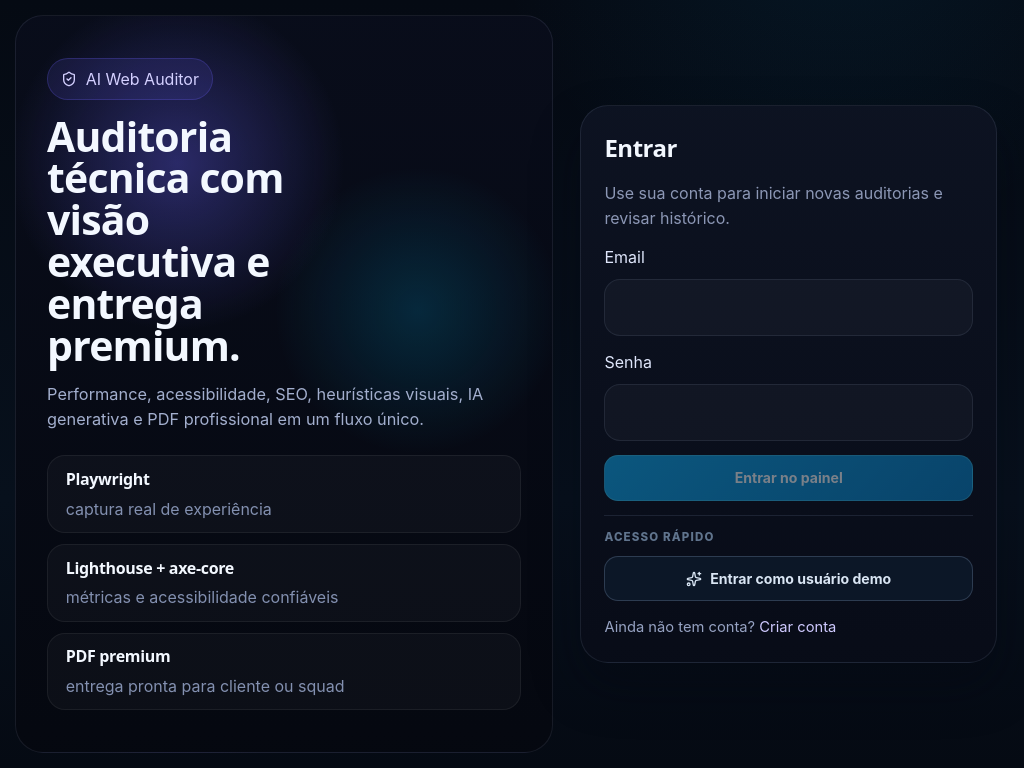
Scenario: login exibe E-mail ou senha inválidos. e libera novo envio
Type "usuario@gmail.com" into the field labelled "Email" at [789, 307], box [604,279,973,336]
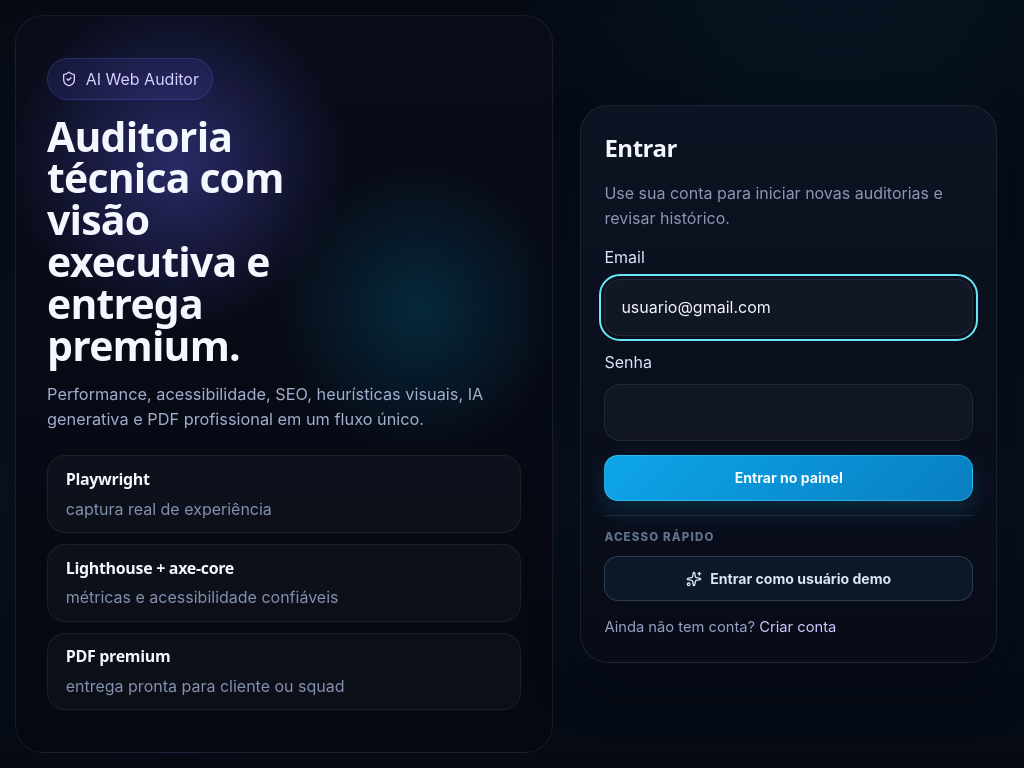
Type "12345678" into the password field labelled "Senha" at [789, 412], box [604,384,973,441]
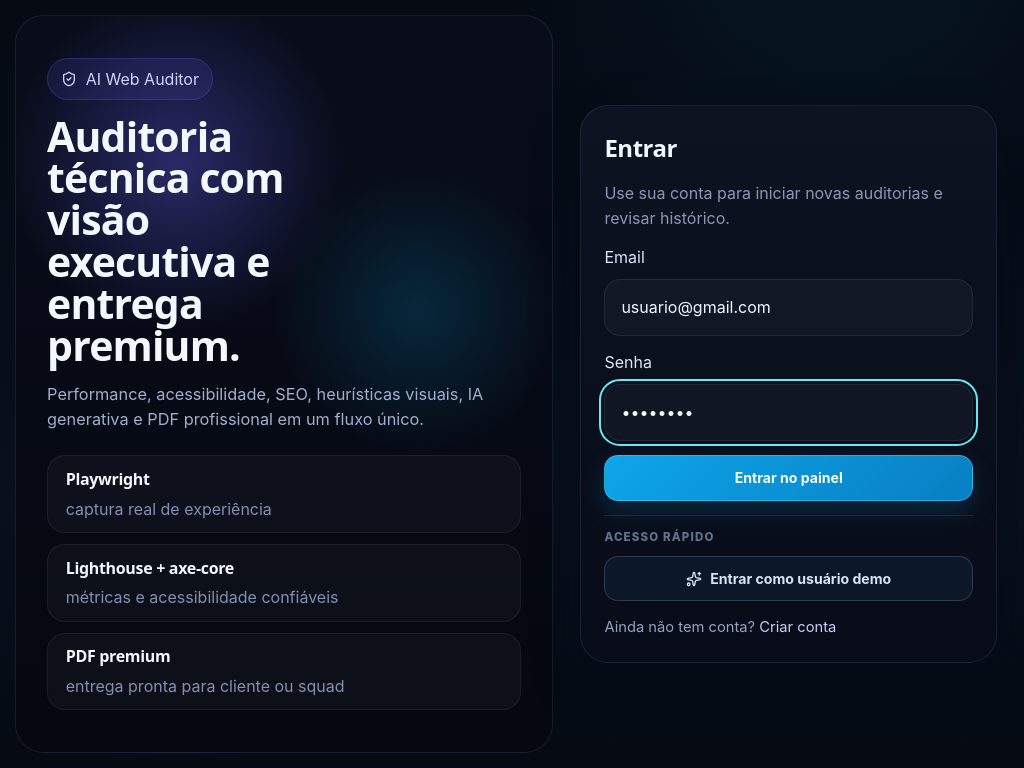
Click the button "Entrar no painel" at [789, 478], box [604,455,973,501]
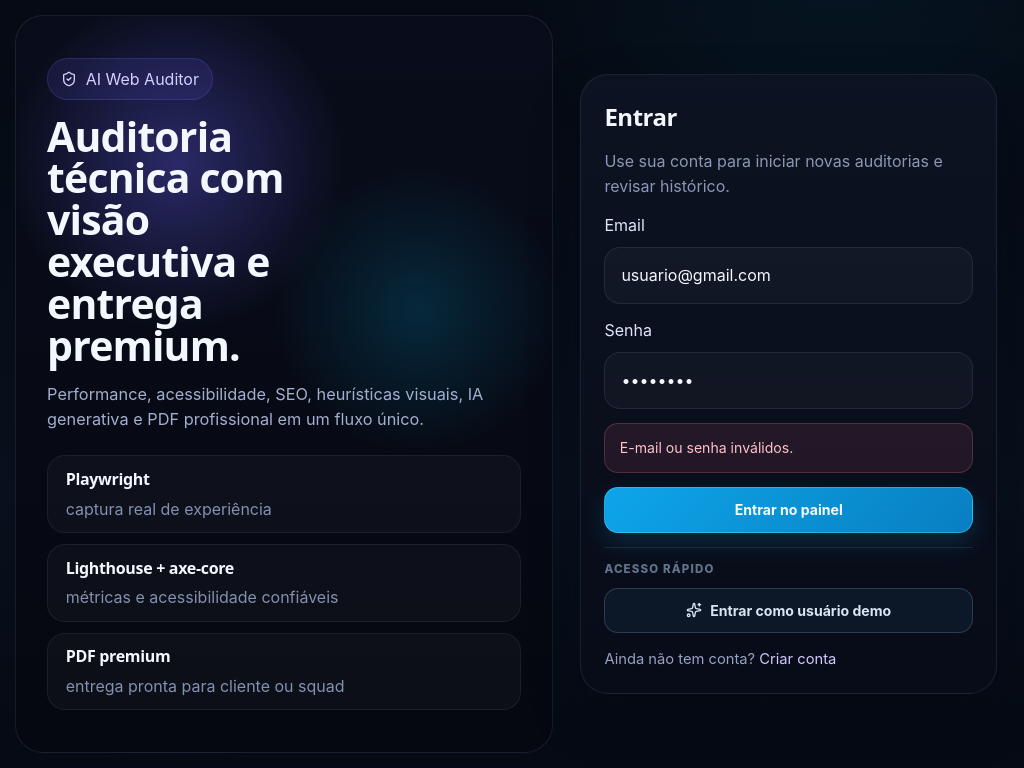
Expected: the button "Entrar no painel" is enabled, [604,487,973,533]
Expected: the message reads "E-mail ou senha inválidos.", [620,439,793,456]
